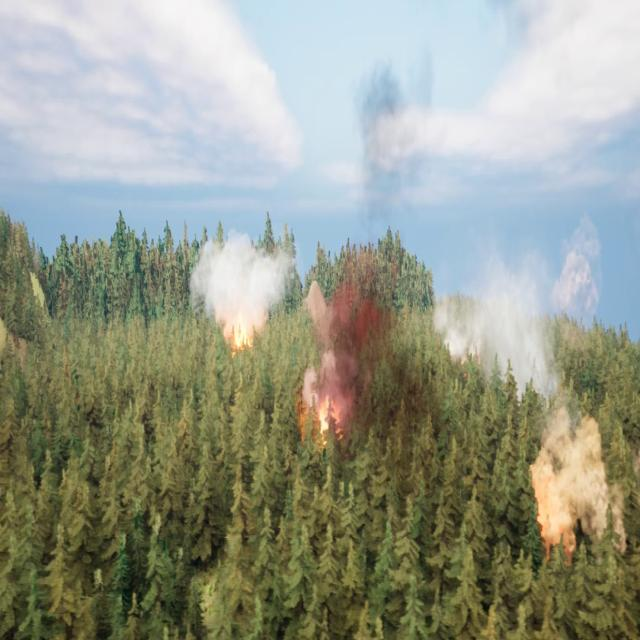fire: (312, 404, 347, 440), (231, 318, 254, 342)
smoke: (303, 44, 429, 450), (438, 210, 600, 396), (527, 406, 621, 561), (188, 234, 298, 356)
